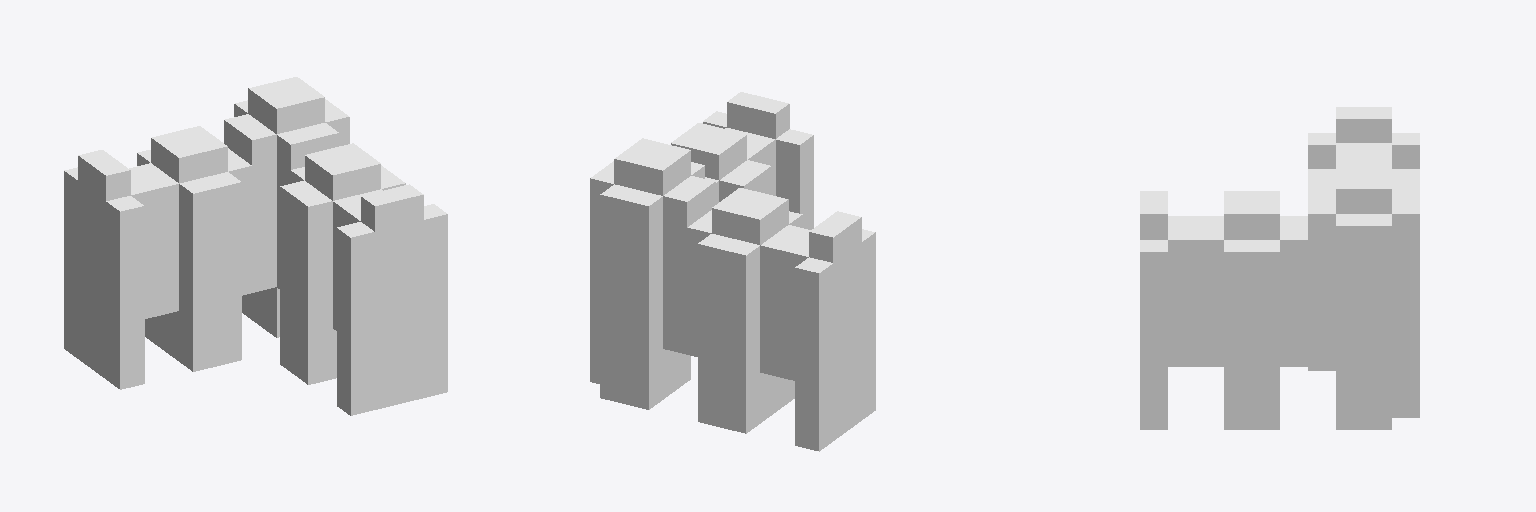
File: Dungeon-10-Fence-Corner.obj
3 views of the same model, side by side, from view 1: azimuth 30°, elevation 25°; view 2: azimuth 150°, elevation 25°; view 3: azimuth 270°, elevation 25° (orthographic).
Visible parts, largest first — view 1: Fence-Corner; view 2: Fence-Corner; view 3: Fence-Corner.
Boxes of the visible parts, box(x1,y1,x2,y2) form: Fence-Corner: box(64, 77, 447, 415); Fence-Corner: box(590, 92, 875, 451); Fence-Corner: box(1140, 107, 1419, 429).
Bounding box in the file's own units: 1 × 0.9 × 1.